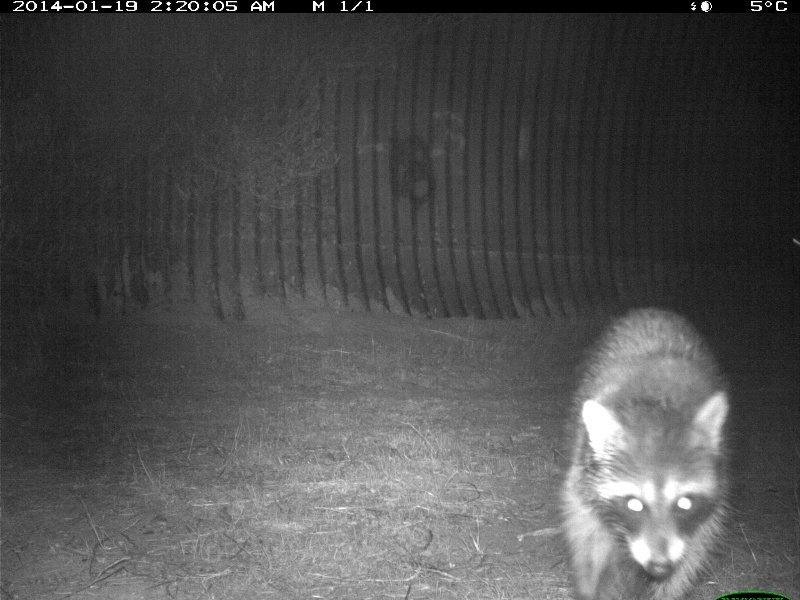raccoon: (559, 306, 736, 594)
